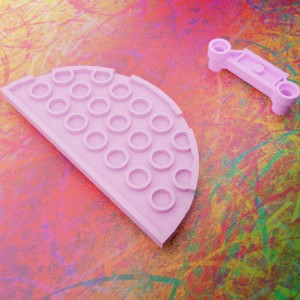lego: (0, 65, 198, 248), (207, 38, 300, 115)
